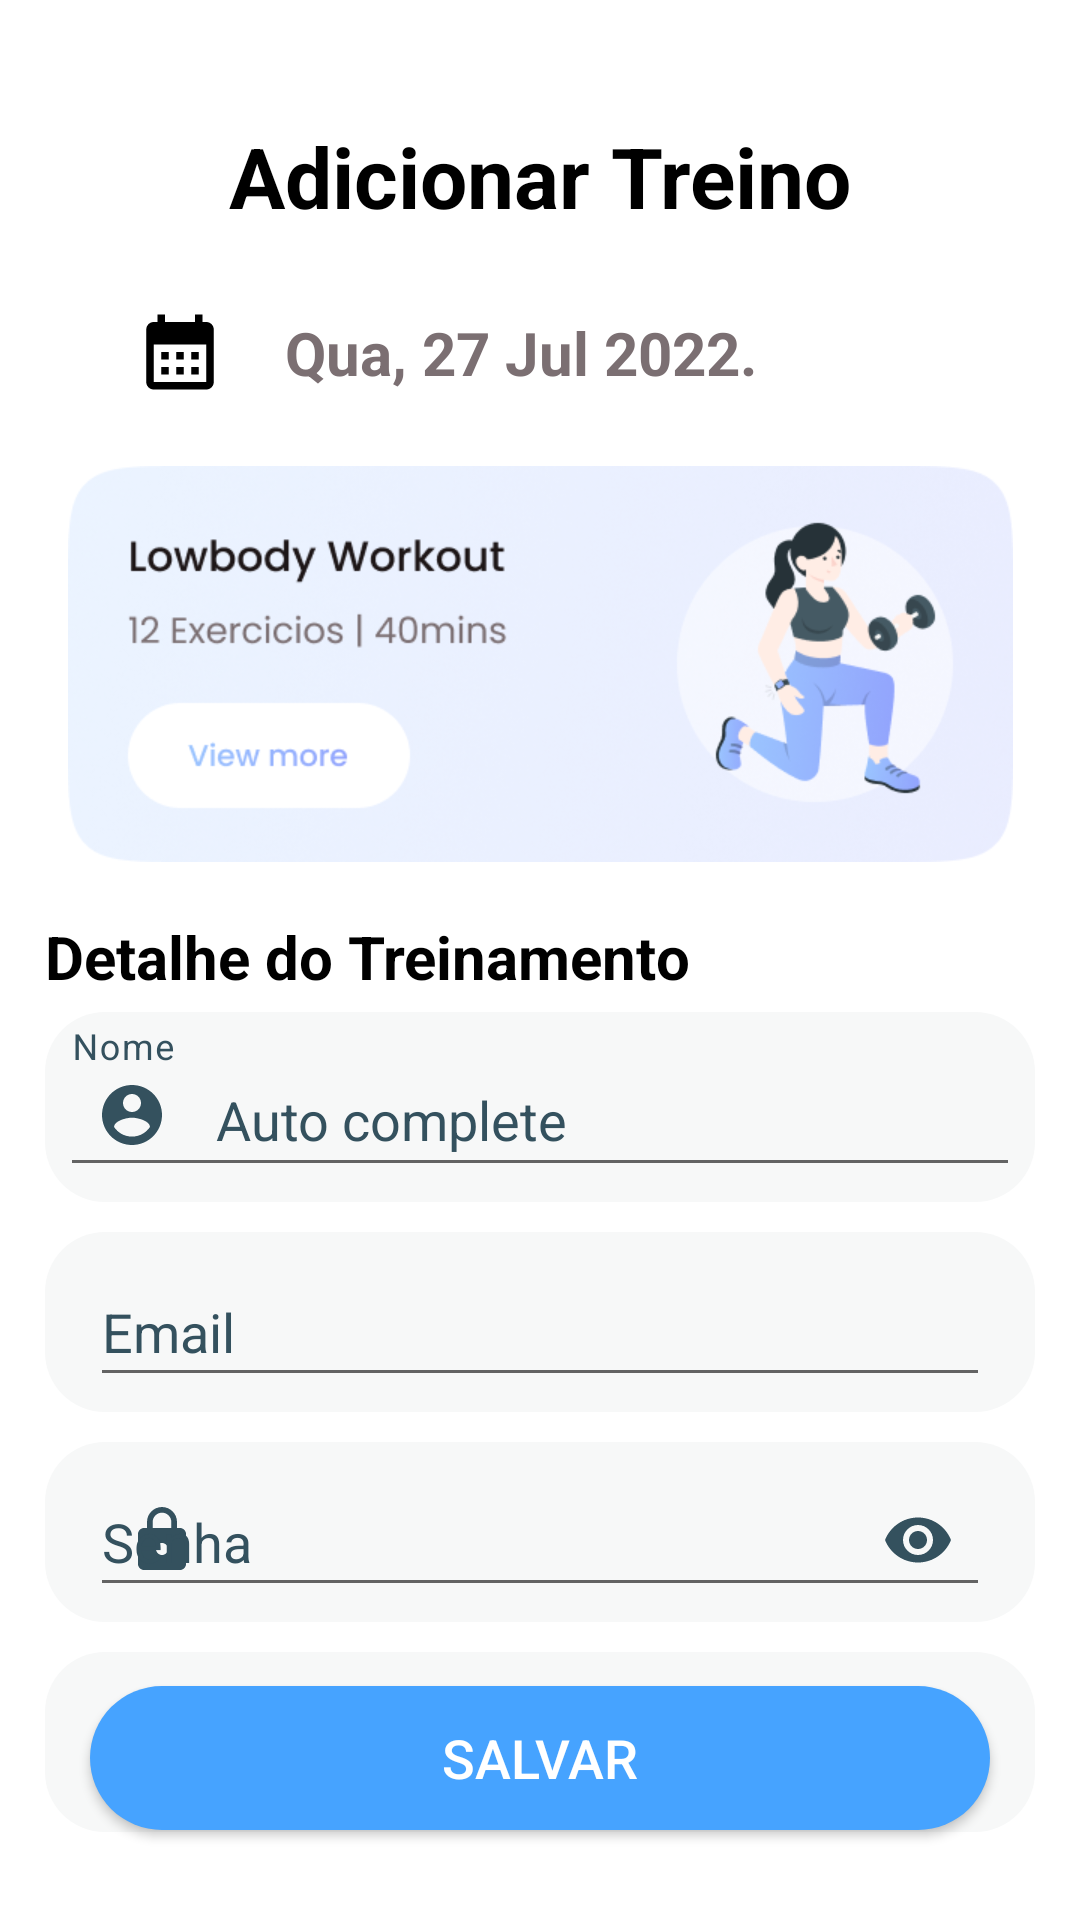

Icon click points for this 1080px×1920px phone screenshot, format [x,y]:
calendar: [180,352]
